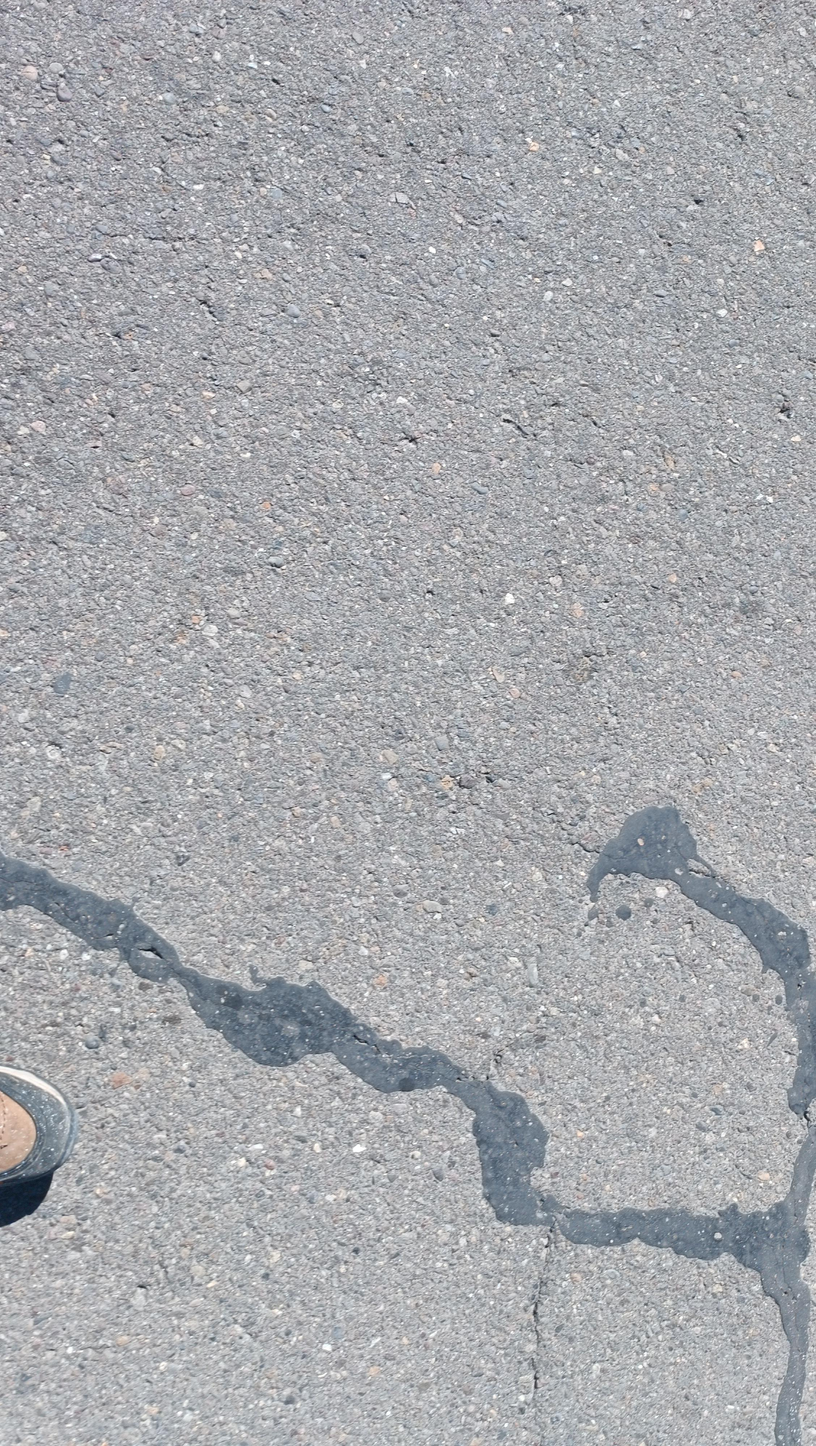GRIETA: (531, 1218, 556, 1400)
PARCHE: (0, 854, 548, 1225)
